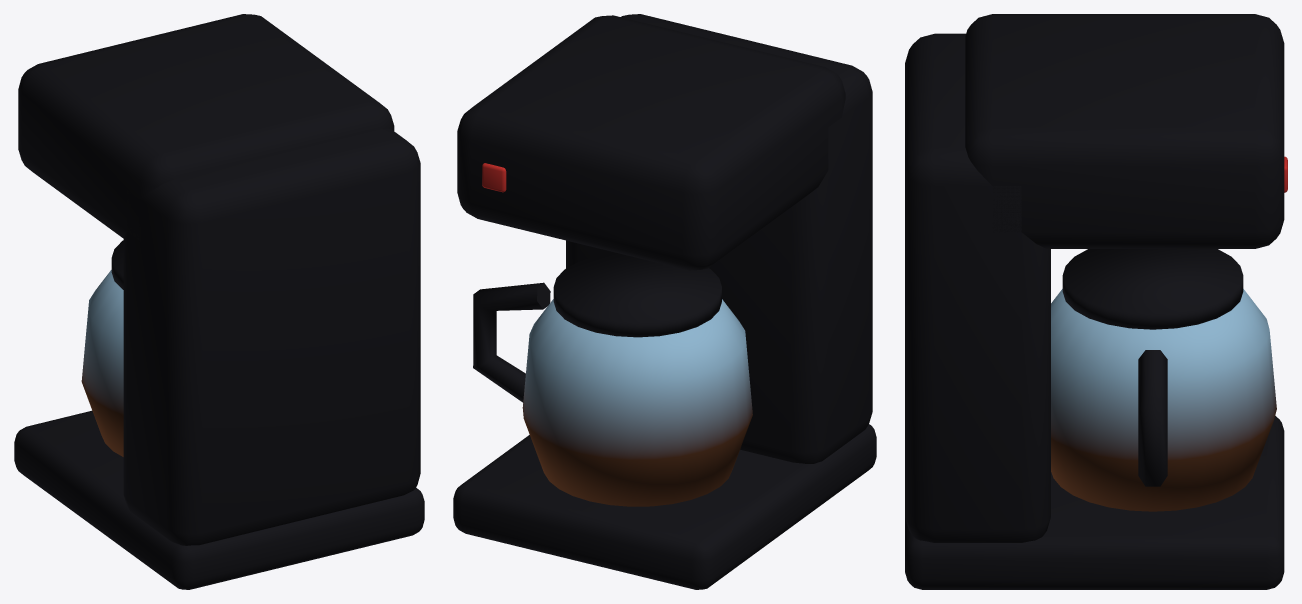
The model's file is coffee_maker.glb.
3 views of the same model, side by side, from view 1: azimuth 30°, elevation 25°; view 2: azimuth 150°, elevation 25°; view 3: azimuth 270°, elevation 25° (orthographic). The views are drawn at different scales.
Parts seen in each view (by area): view 1: coffee_maker; view 2: coffee_maker; view 3: coffee_maker.
Boxes of the visible parts, x1=… form: coffee_maker: x1=14, y1=14, x2=424, y2=589; coffee_maker: x1=453, y1=14, x2=876, y2=589; coffee_maker: x1=905, y1=14, x2=1287, y2=589.
Size of the model in its own units: 0.2472 by 0.345 by 0.2625.
